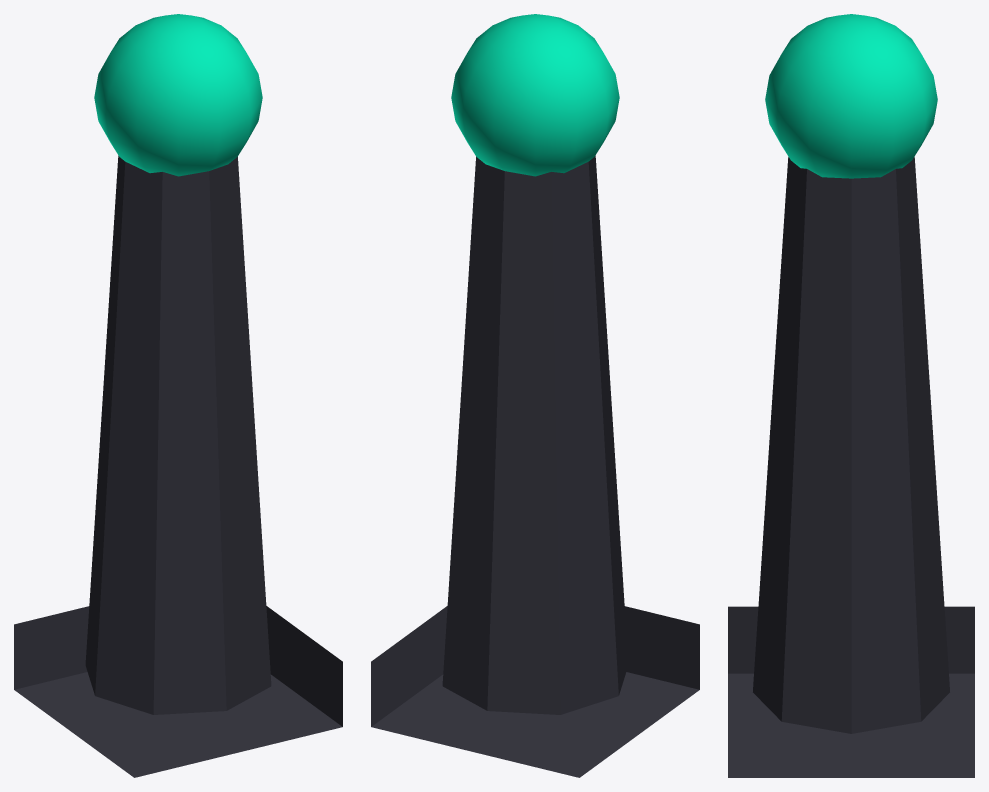
File: energy_pylon.obj
3 renders of one model, left to right at view 1: azimuth 30°, elevation 25°; view 2: azimuth 150°, elevation 25°; view 3: azimuth 270°, elevation 25°, orthographic. The views are drawn at different scales.
Visible parts, largest first — view 1: EnergyPylon; view 2: EnergyPylon; view 3: EnergyPylon.
Part boxes in pixels (x1,y1,x2,y2): EnergyPylon: (14,14,342,777); EnergyPylon: (371,14,699,777); EnergyPylon: (728,14,974,777).
Size of the model in its own units: 1 by 3.15 by 1.
